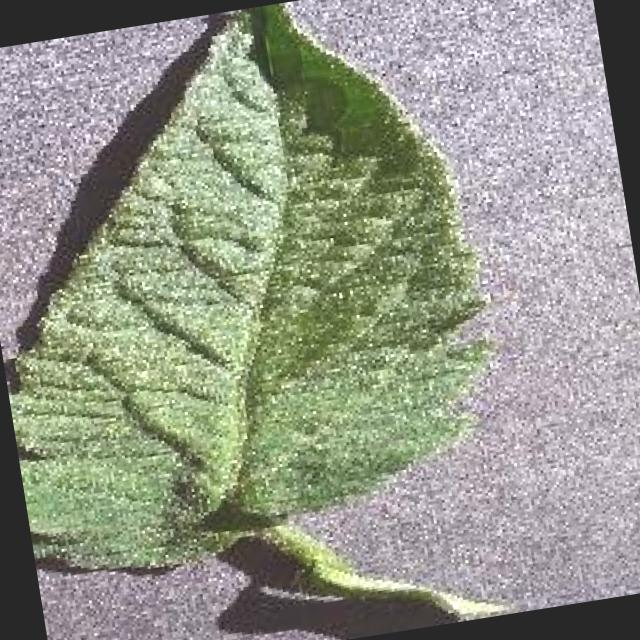healthy: (7, 1, 507, 630)
